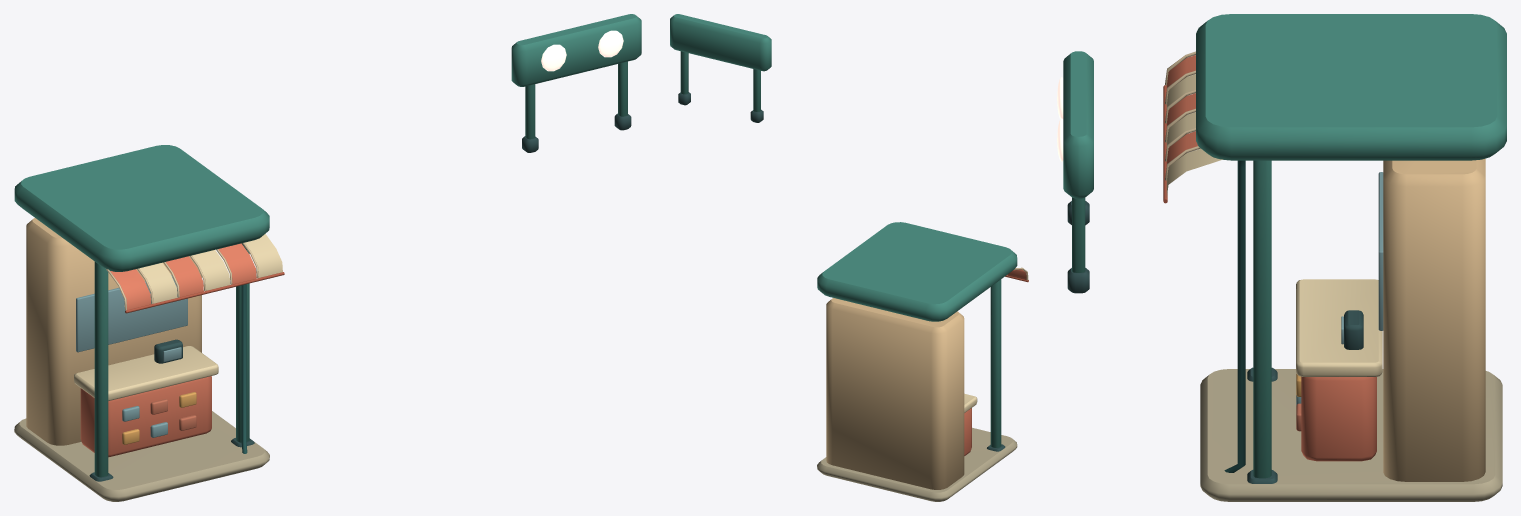
Rendered from tropical_restaurant_4.glb.
The picture shows the model from 3 angles, left to right: view 1: azimuth 30°, elevation 25°; view 2: azimuth 150°, elevation 25°; view 3: azimuth 270°, elevation 25°; orthographic projection. The views are drawn at different scales.
Parts seen in each view (by area): view 1: TropicalRestaurant4; view 2: TropicalRestaurant4; view 3: TropicalRestaurant4.
Part boxes in pixels (bbox=[...]): TropicalRestaurant4: bbox=[14, 14, 641, 501]; TropicalRestaurant4: bbox=[670, 14, 1028, 501]; TropicalRestaurant4: bbox=[1057, 14, 1506, 501].
Size of the model in its own units: 6.88 by 5.41 by 3.69.
